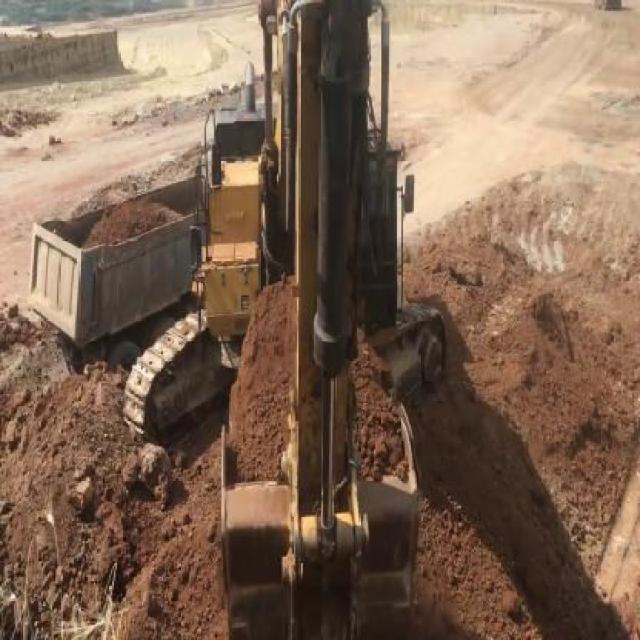dump_truck: (28, 176, 203, 372)
excavator: (121, 0, 449, 638)
